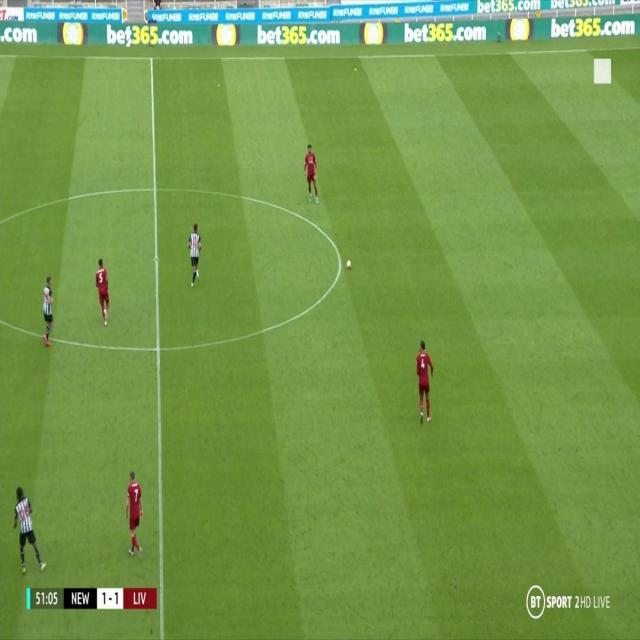ball: (345, 258, 352, 270)
player: (10, 484, 48, 578), (124, 468, 146, 561), (414, 339, 436, 426), (40, 272, 58, 349), (185, 221, 205, 288), (94, 255, 112, 326), (302, 142, 321, 207)
